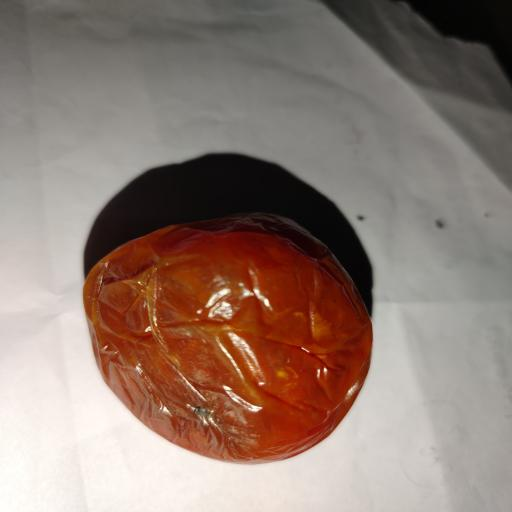spoiled: (84, 216, 372, 462)
